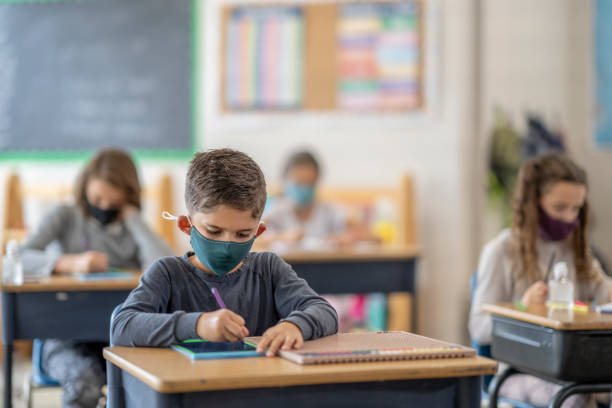with mask: (181, 159, 271, 274), (521, 158, 596, 248), (80, 150, 135, 230), (278, 151, 326, 218)
